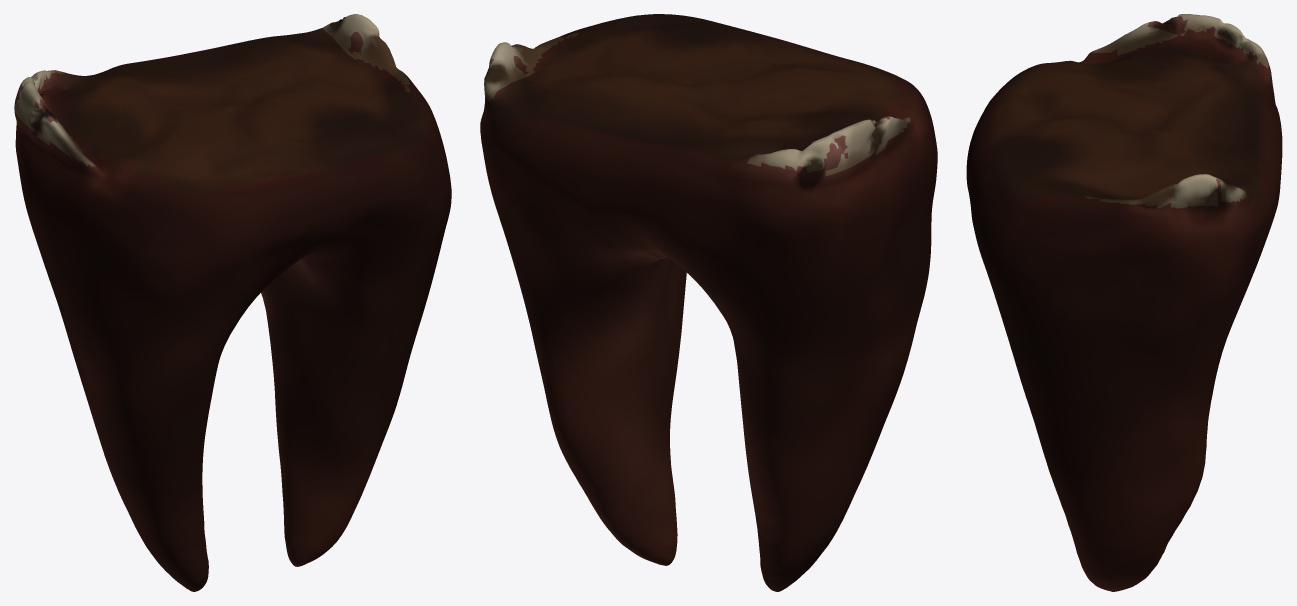
Rendered from SisaAkar2.fbx.
The picture shows the model from 3 angles, left to right: view 1: azimuth 30°, elevation 25°; view 2: azimuth 150°, elevation 25°; view 3: azimuth 270°, elevation 25°; orthographic projection. The views are drawn at different scales.
Visible parts, largest first — view 1: SisaAkar; view 2: SisaAkar; view 3: SisaAkar.
Part boxes in pixels (x1,y1,x2,y2): SisaAkar: [14, 14, 451, 591]; SisaAkar: [480, 14, 937, 591]; SisaAkar: [966, 14, 1282, 591].
Bounding box in the file's own units: 1.15 × 1.53 × 0.9253.
